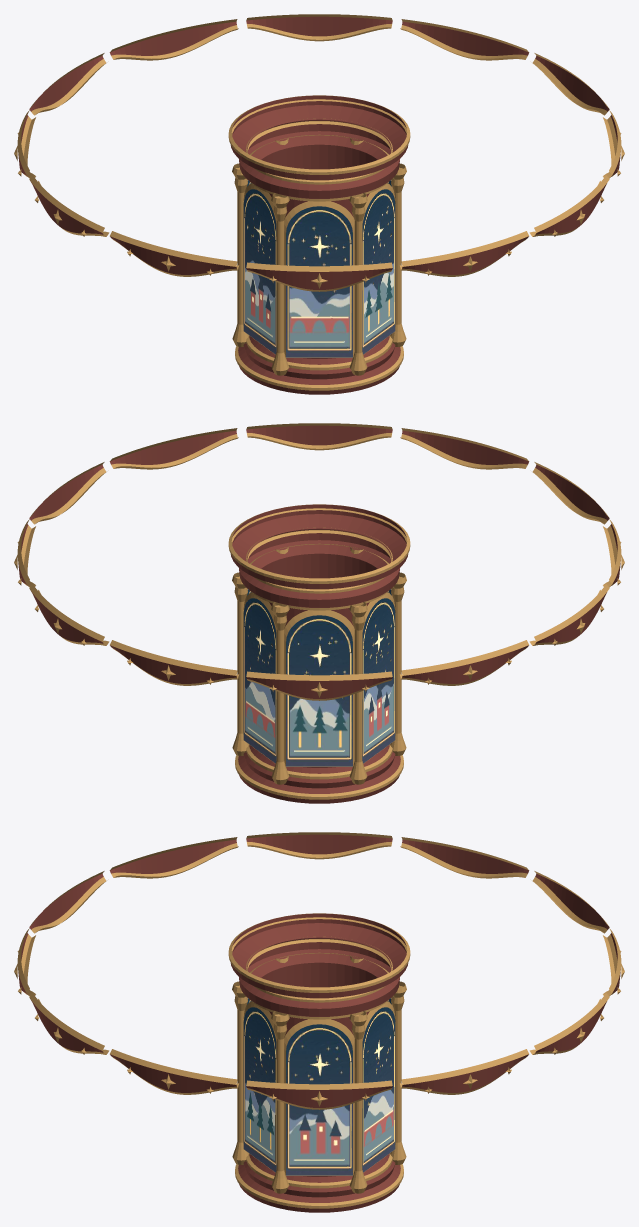
Rendered from story-lantern.glb.
The picture shows the model from 3 angles, top to bottom: view 1: azimuth 30°, elevation 25°; view 2: azimuth 150°, elevation 25°; view 3: azimuth 270°, elevation 25°; orthographic projection.
Parts seen in each view (by area): view 1: Rolled rim, Painted winter tale, Stepped drum; view 2: Rolled rim, Painted winter tale, Stepped drum; view 3: Rolled rim, Painted winter tale, Stepped drum.
Part boxes in pixels (x1,y1,x2,y2): Rolled rim: [14, 14, 624, 390]; Painted winter tale: [243, 180, 395, 357]; Stepped drum: [230, 95, 408, 394]; Rolled rim: [14, 423, 624, 799]; Painted winter tale: [243, 589, 395, 766]; Stepped drum: [230, 504, 408, 803]; Rolled rim: [14, 832, 624, 1208]; Painted winter tale: [243, 998, 395, 1175]; Stepped drum: [230, 913, 408, 1212].
Size of the model in its own units: 6.72 by 2.82 by 6.72.
3 materials, 1 textured.
